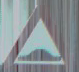Speed Breaker ahead: (4, 3, 70, 66)
